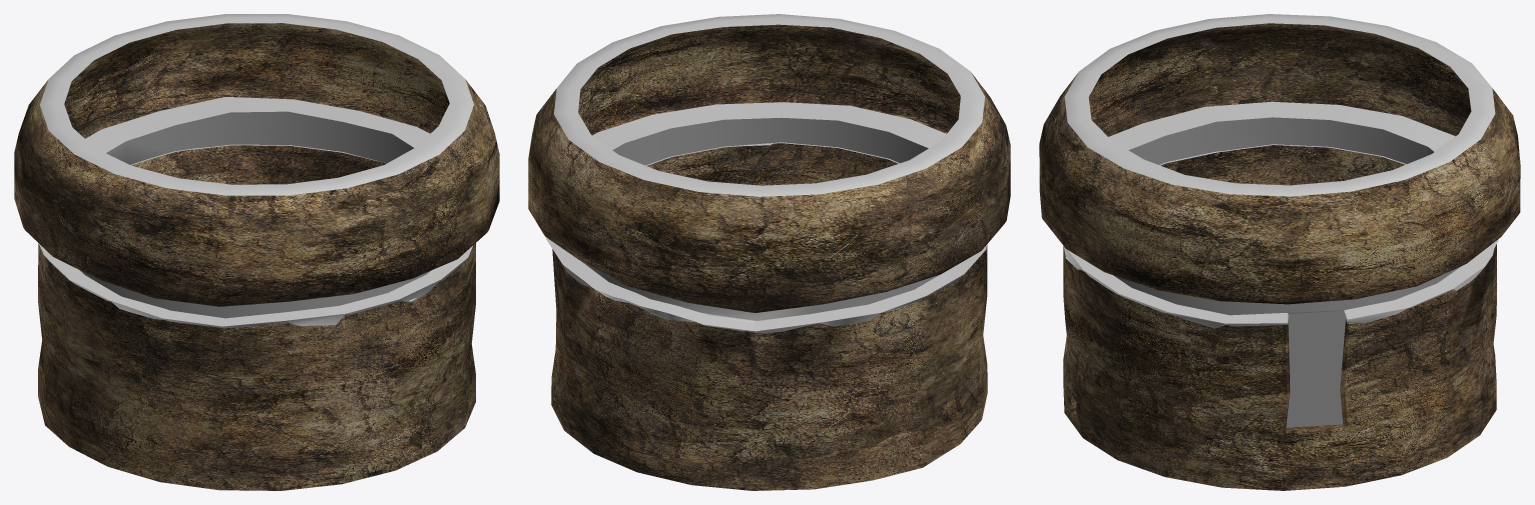
The model's file is tower03.FBX.
3 views of the same model, side by side, from view 1: azimuth 30°, elevation 25°; view 2: azimuth 150°, elevation 25°; view 3: azimuth 270°, elevation 25° (orthographic).
Visible parts, largest first — view 1: base003; view 2: base003; view 3: base003.
Part boxes in pixels (x1,y1,x2,y2): base003: [14, 14, 499, 490]; base003: [528, 14, 1010, 490]; base003: [1039, 14, 1520, 490].
Bounding box in the file's own units: 383 × 381 × 260.
